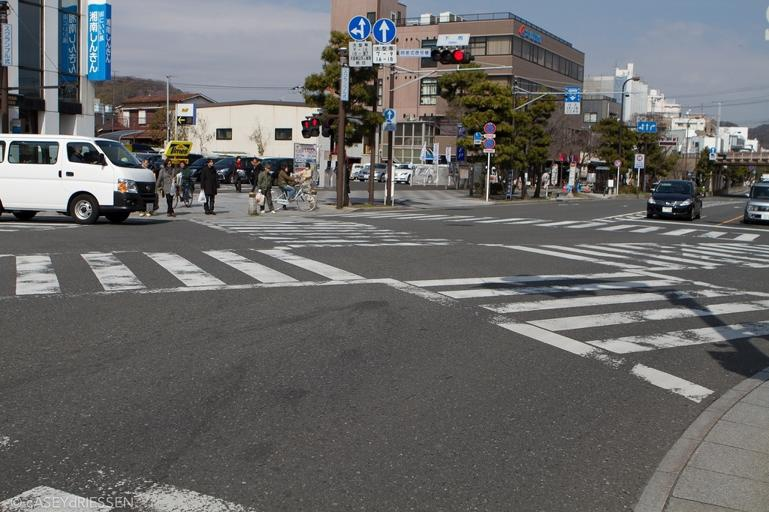non-vehicle: (264, 176, 315, 211), (171, 172, 193, 209)
